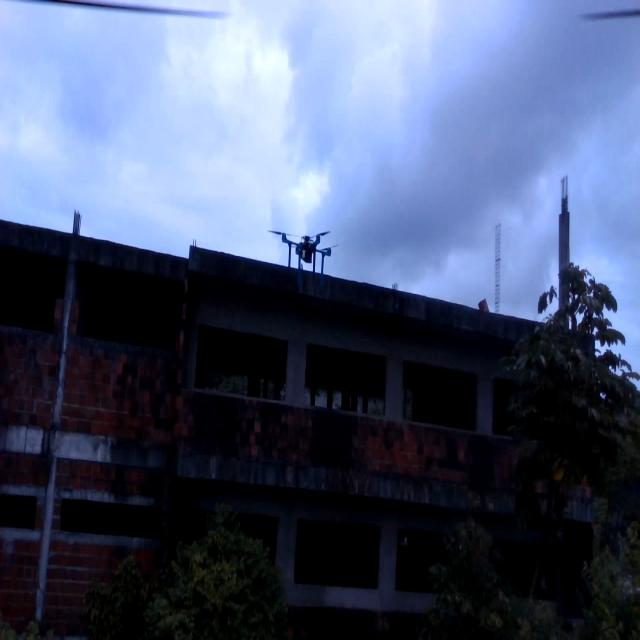-uav-: (266, 203, 342, 317)
